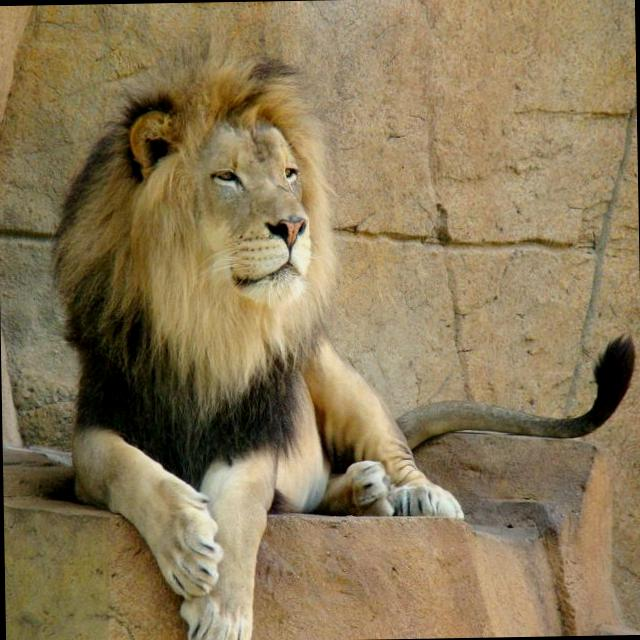lions: (34, 62, 512, 640)
